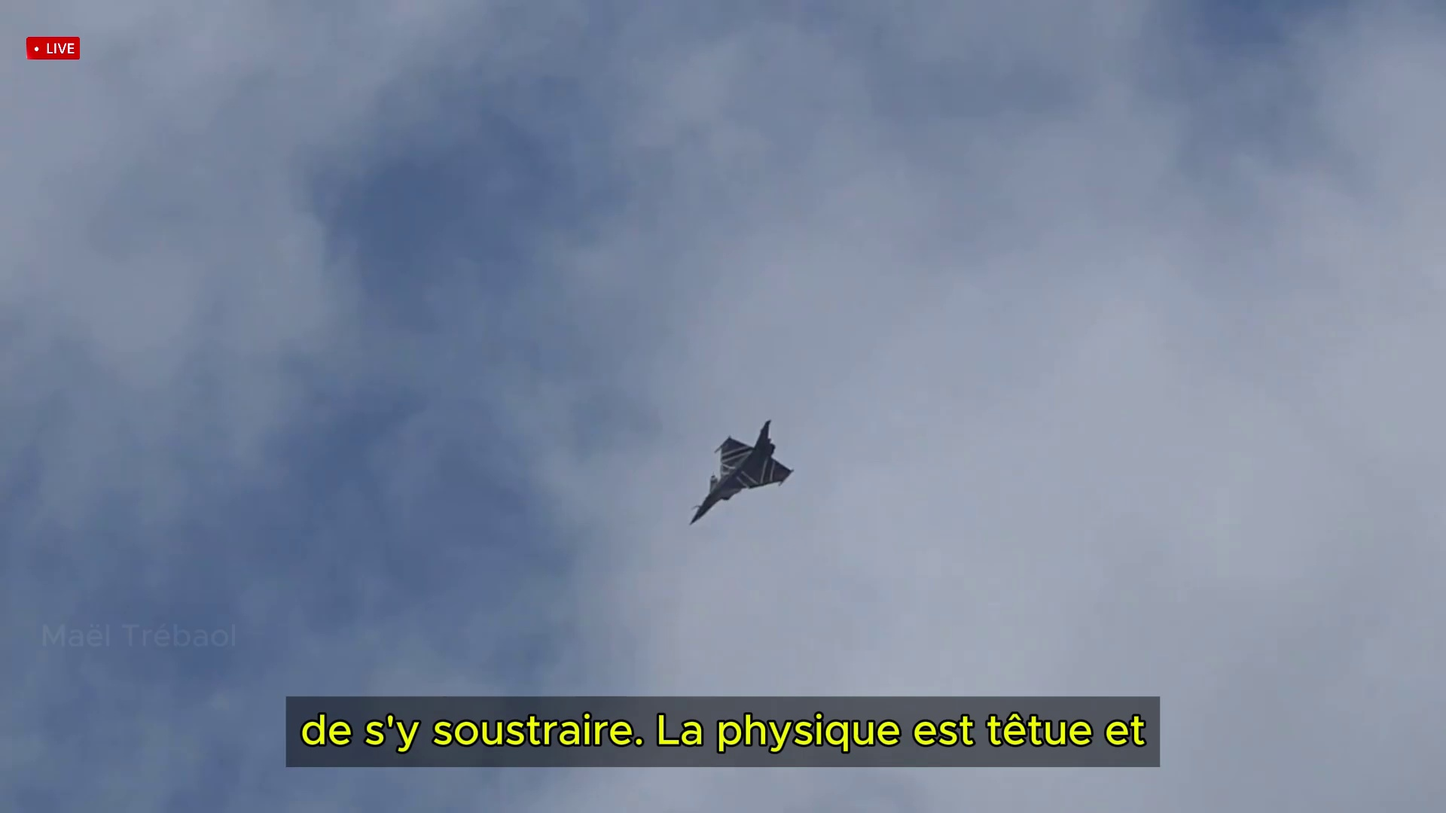Rafale: (687, 418, 792, 524)
